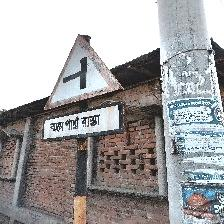Side-road-left: (43, 33, 126, 140)
